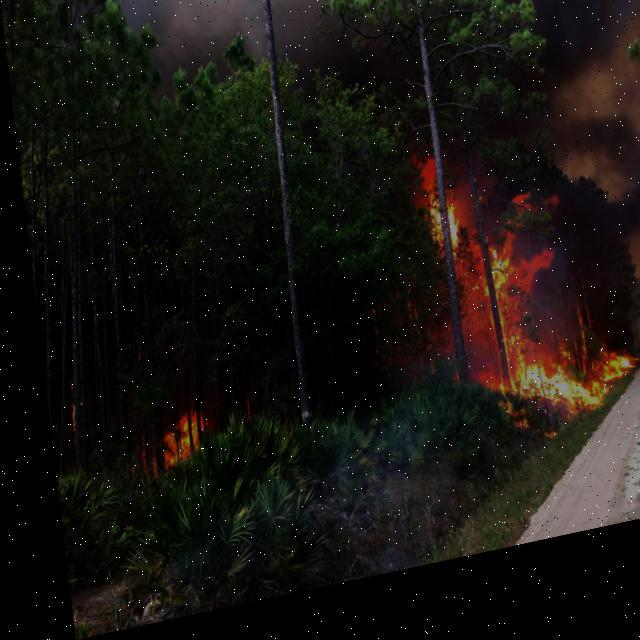Fire: (379, 124, 634, 470), (132, 411, 196, 475)
